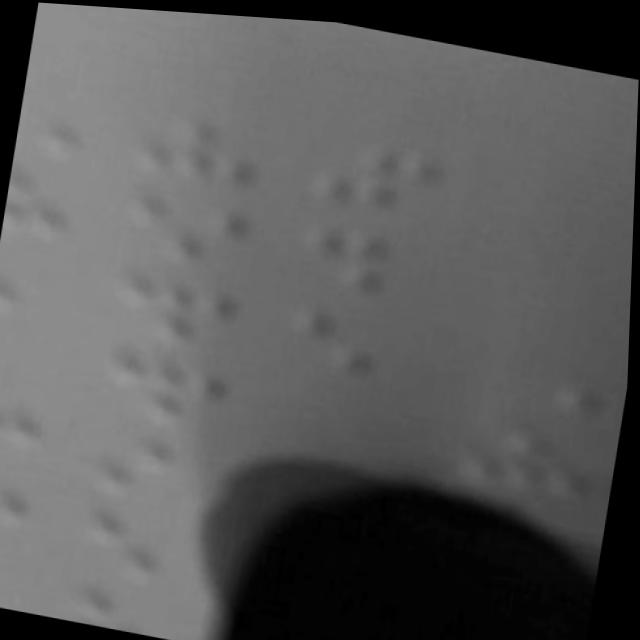braiile: (280, 285, 448, 391), (294, 205, 465, 306), (305, 129, 476, 228), (97, 332, 256, 437), (443, 401, 607, 502), (117, 168, 270, 271), (105, 254, 261, 355), (70, 501, 233, 597), (126, 96, 284, 195), (80, 417, 233, 512)
